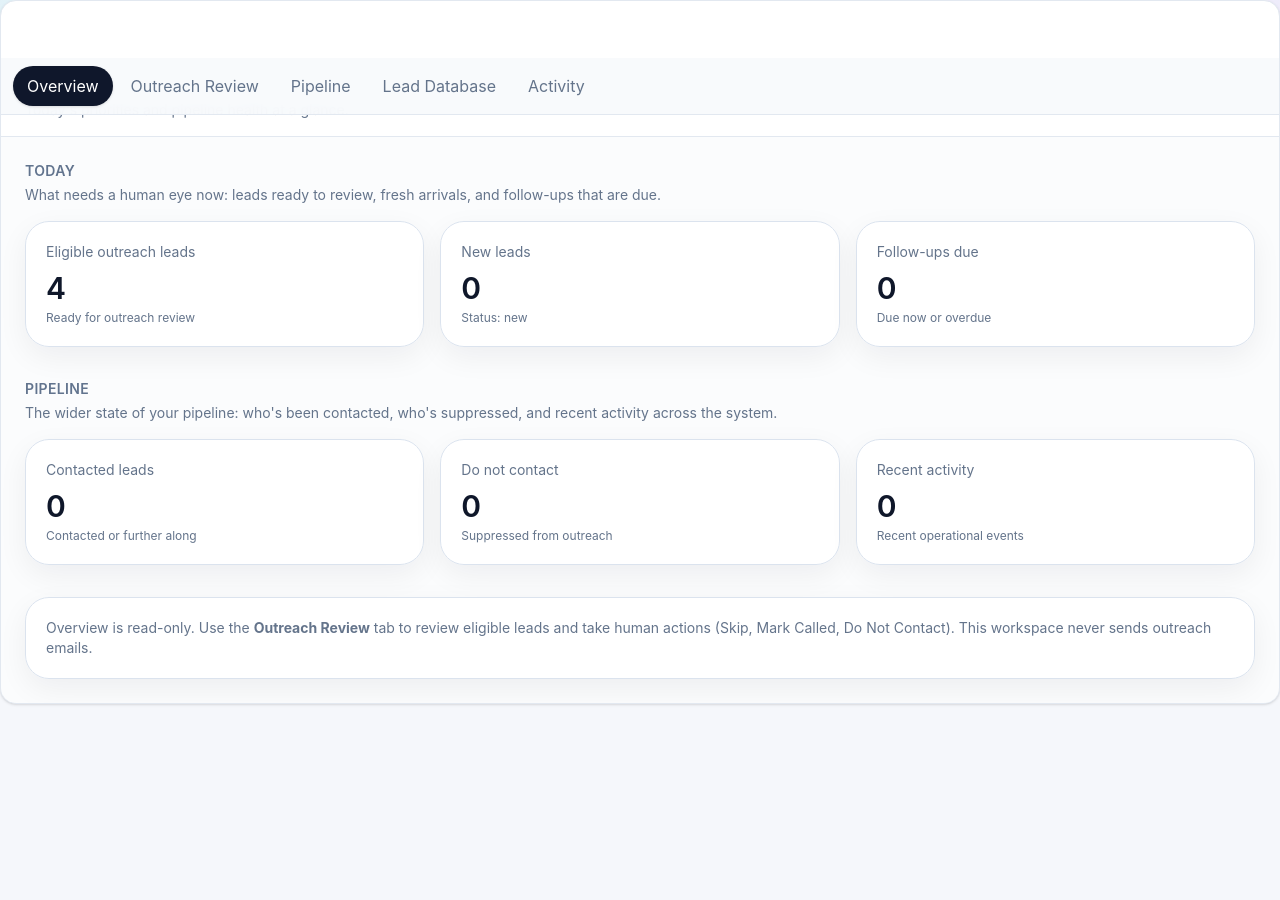
Test: SalesWorkspaceClient › renders empty/placeholder states safely when sources are empty
This screenshot has width=1280, height=900.
Expected: the text "Eligible outreach leads" is shown, [46,243,195,260]
Click the tab "Lead Database" at (439, 86), box [369,66,510,106]
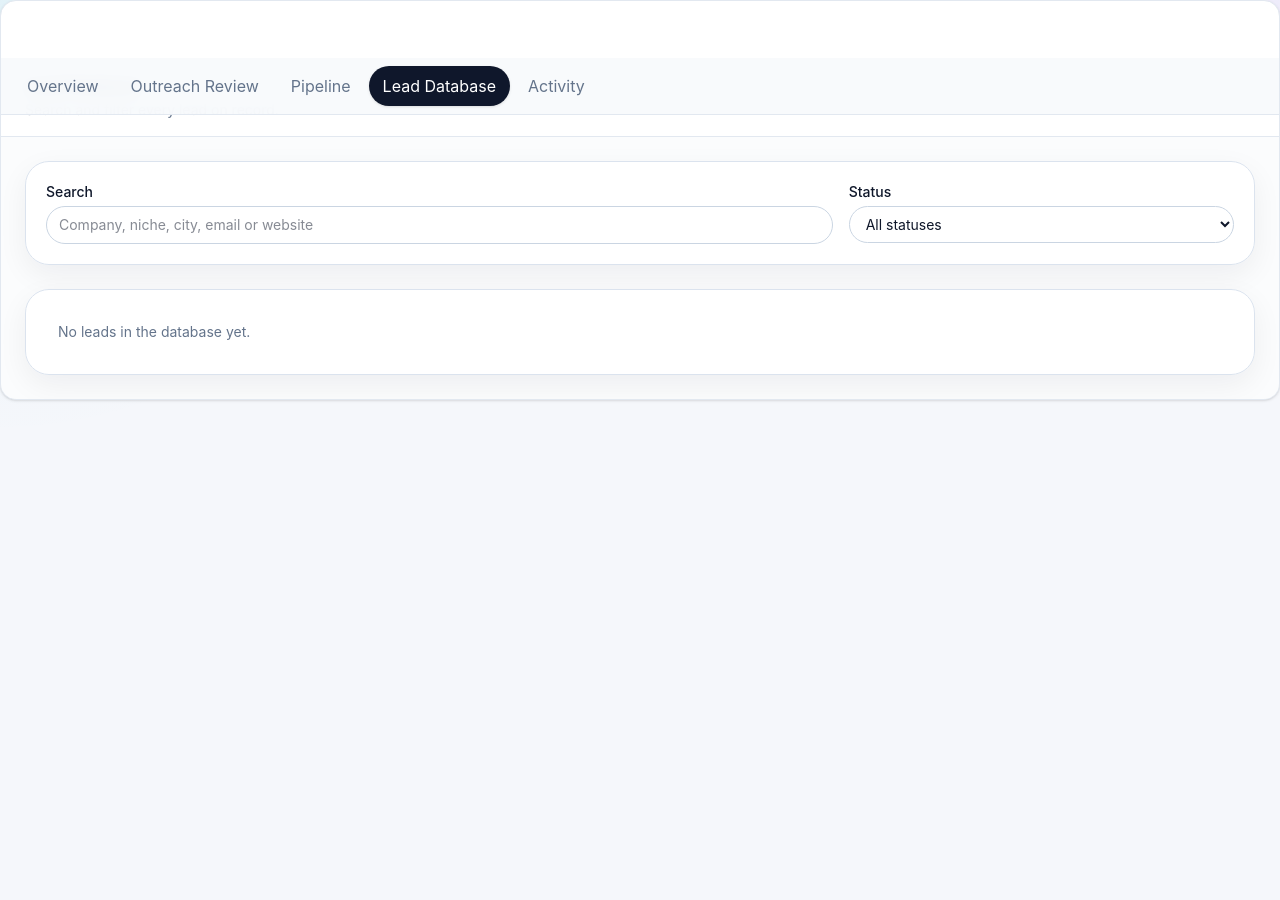
Expected: the text "No leads in the database yet." is shown, [25,289,1255,375]
Click the tab "Pipeline" at (321, 86), box [277,66,365,106]
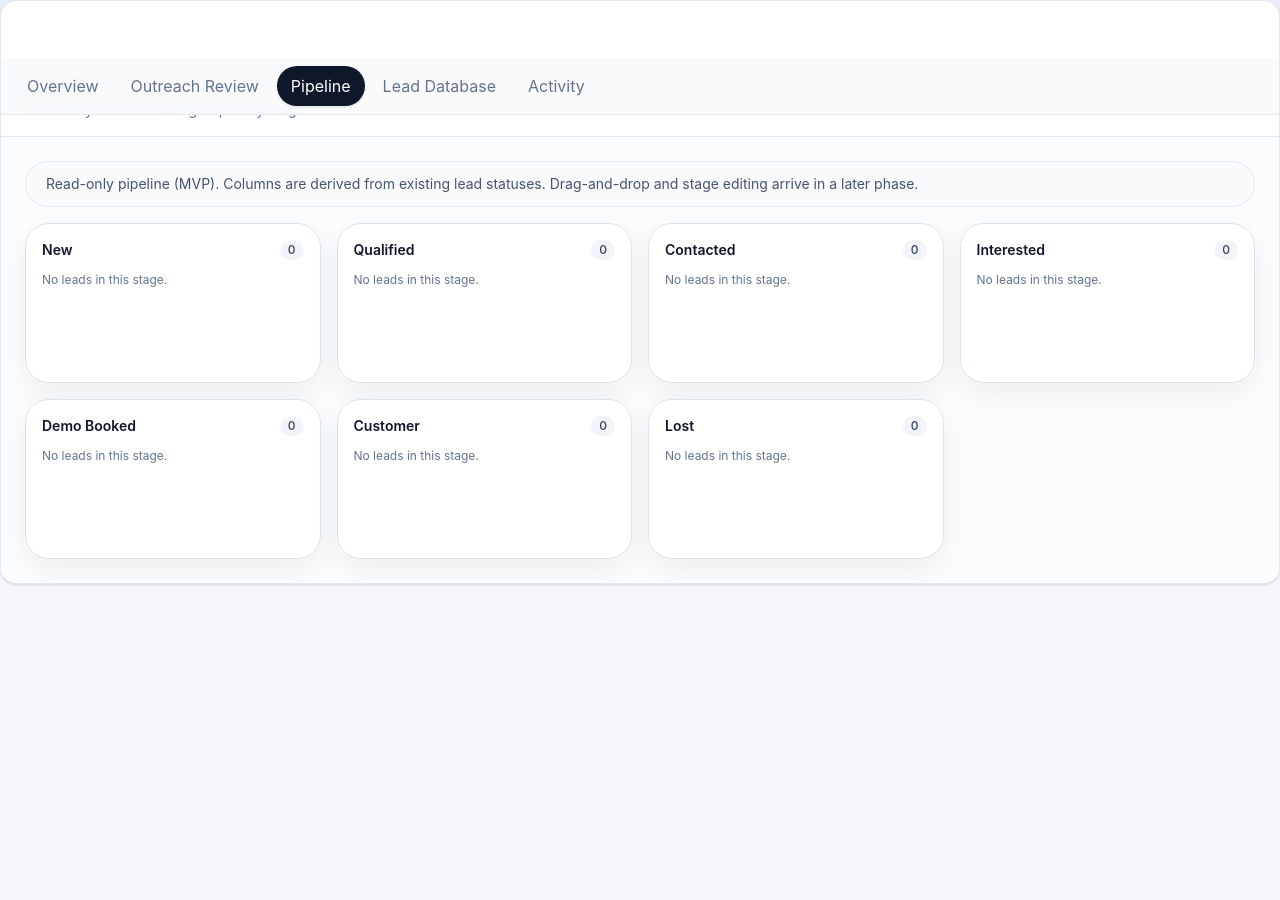
Expected: the text "No leads in this stage." below "New" is shown, [42,272,167,287]
